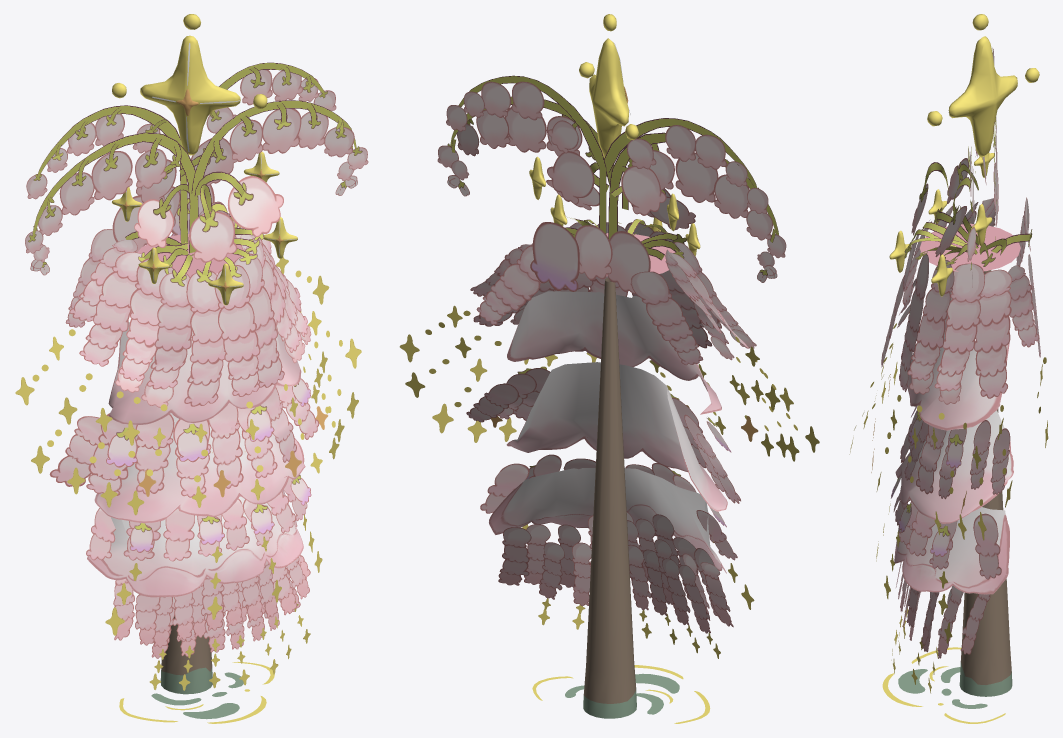
File: Mesh_Home_RF_SBC_5_SM.fbx
3 renders of one model, left to right at view 1: azimuth 30°, elevation 25°; view 2: azimuth 150°, elevation 25°; view 3: azimuth 270°, elevation 25°, orthographic. The views are drawn at different scales.
Visible parts, largest first — view 1: Mesh_Home_RF_SBC_5_P, Mesh_Home_RF_SBC_5; view 2: Mesh_Home_RF_SBC_5_P, Mesh_Home_RF_SBC_5; view 3: Mesh_Home_RF_SBC_5_P, Mesh_Home_RF_SBC_5.
Part boxes in pixels (x1,y1,x2,y2): Mesh_Home_RF_SBC_5_P: (15,43,368,723); Mesh_Home_RF_SBC_5: (112,14,297,694); Mesh_Home_RF_SBC_5_P: (399,43,819,723); Mesh_Home_RF_SBC_5: (529,14,700,718); Mesh_Home_RF_SBC_5_P: (849,48,1048,723); Mesh_Home_RF_SBC_5: (889,14,1039,696).
Size of the model in its own units: 620 by 1074 by 288.
2 materials, 2 textured.
